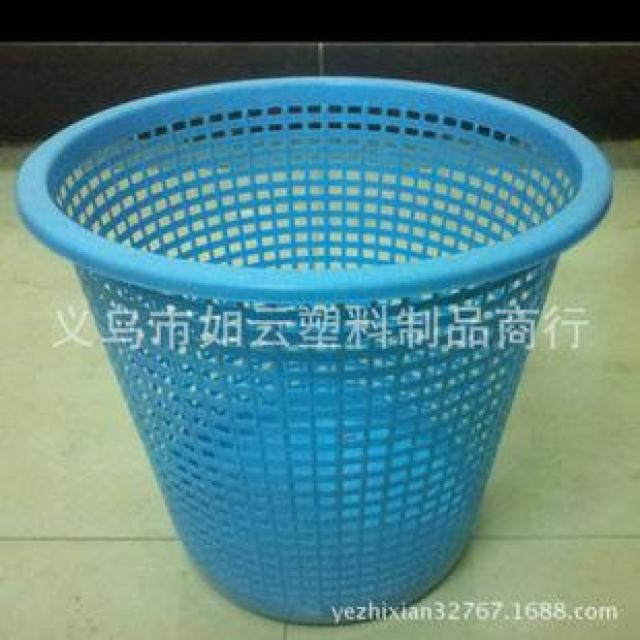dustbin: (7, 64, 627, 630)
